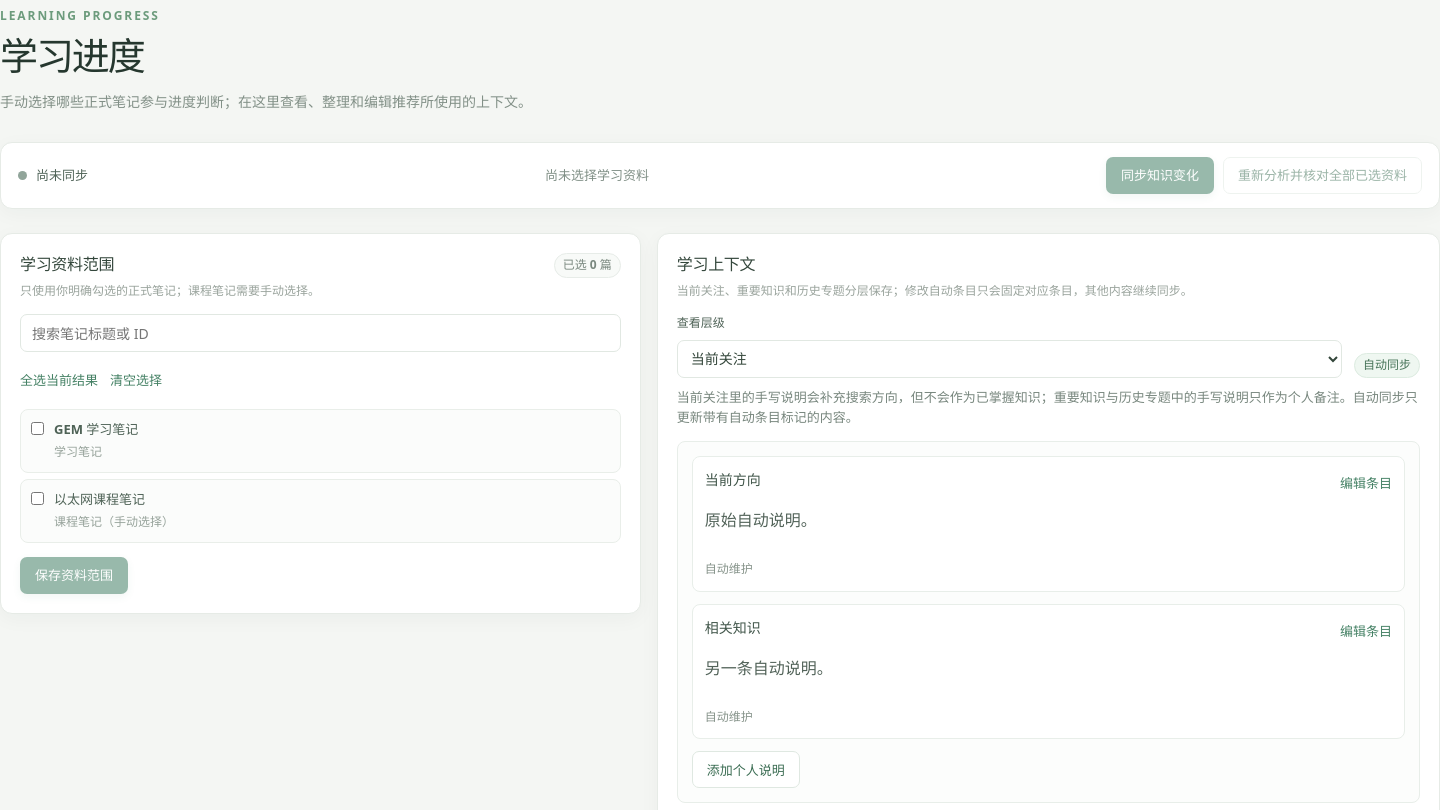
学习进度上下文 page › lets the user set an indexed topic as the current direction
The width and height of the screenshot is (1440, 810).
Select "历史专题：持续学习" in the dropdown labelled "查看层级" at (1009, 359), box left=677, top=340, right=1342, bottom=378
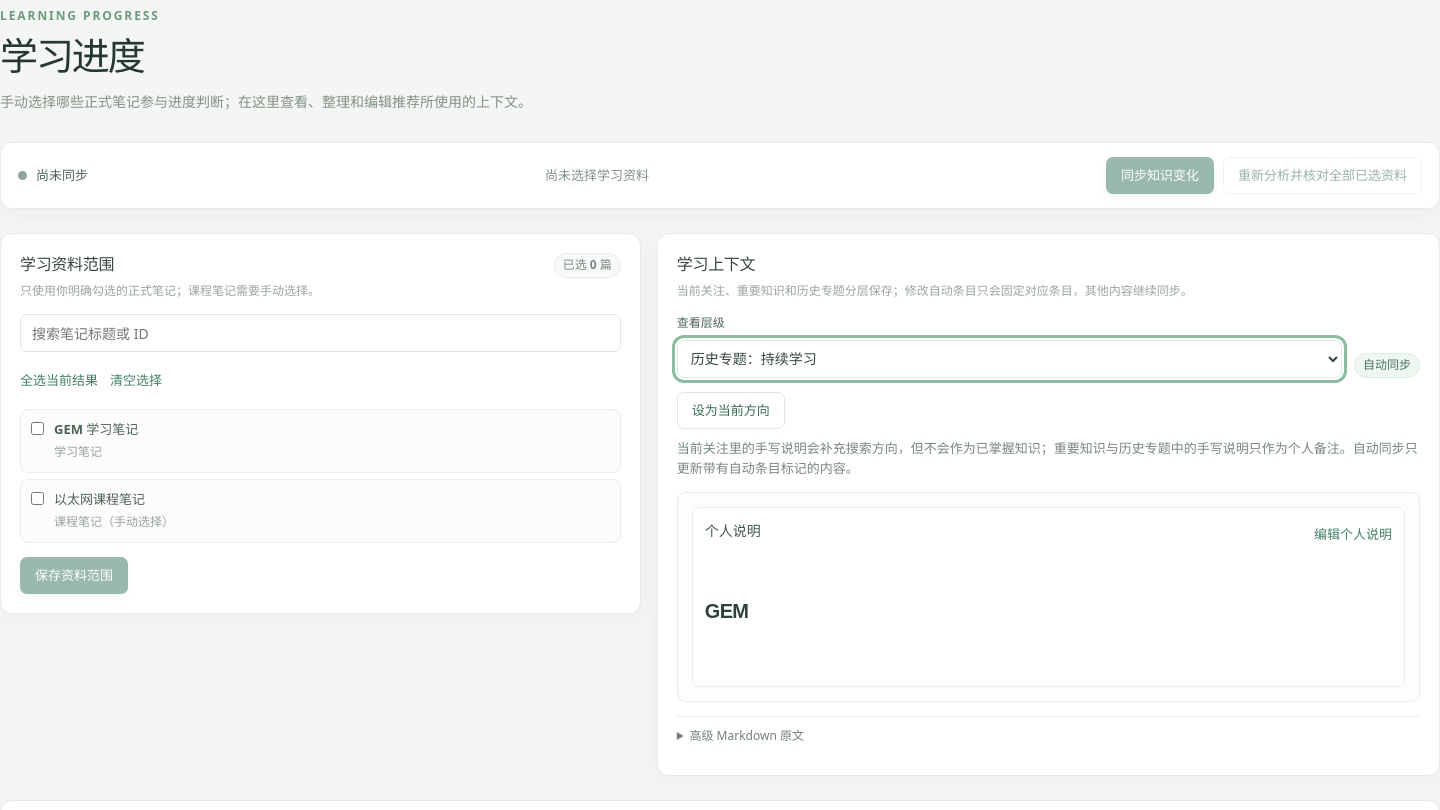
Click the button "设为当前方向" at (731, 410), box left=677, top=392, right=785, bottom=429
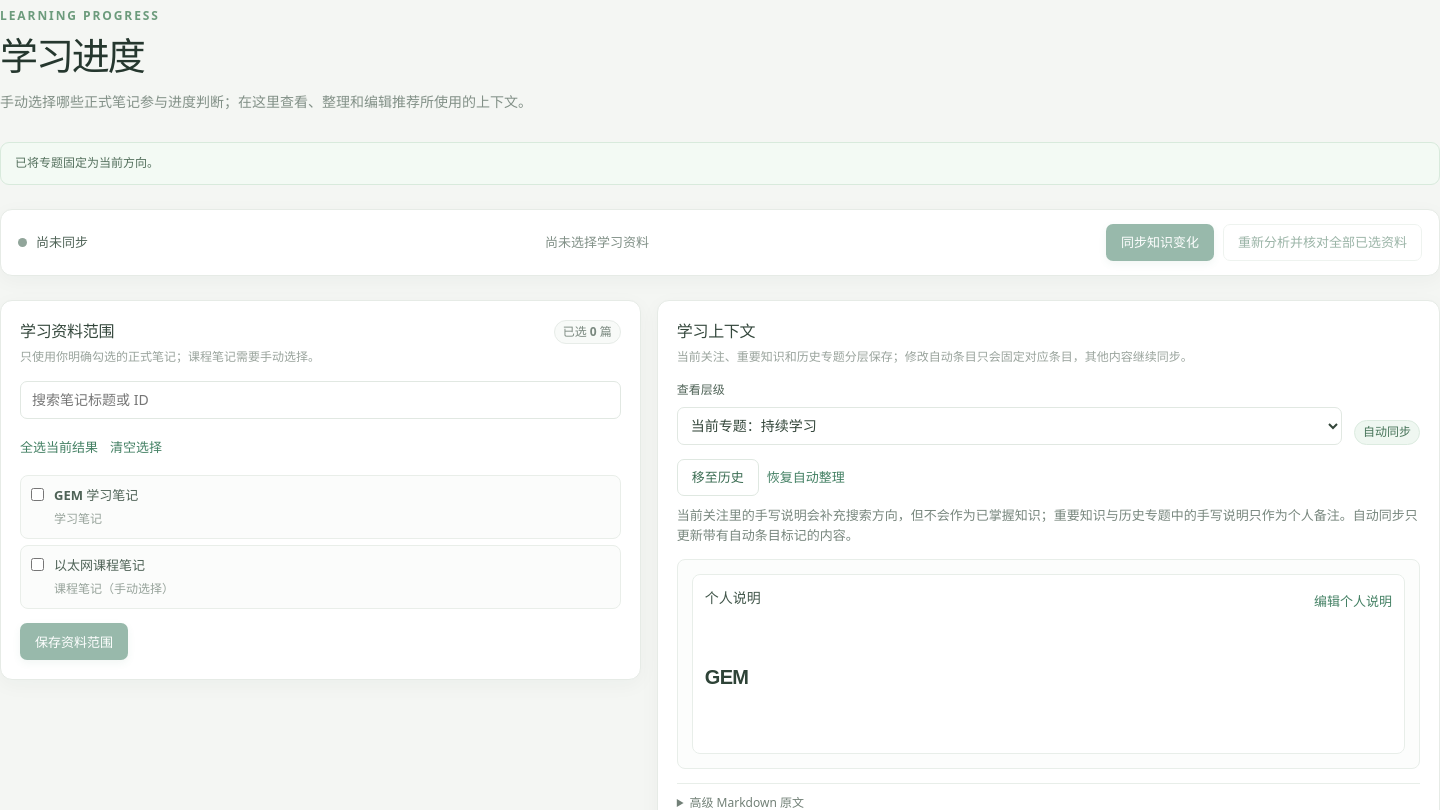
Expected: the text "已将专题固定为当前方向。" is shown, left=0, top=142, right=1439, bottom=185
